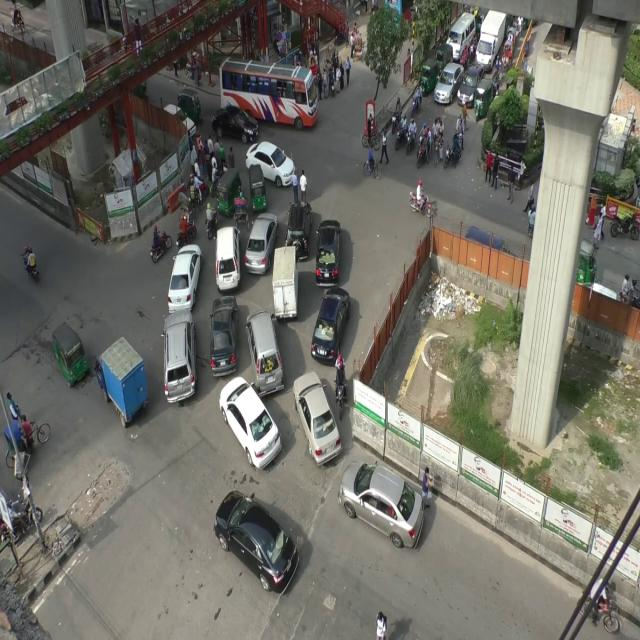cng: (49, 322, 89, 382), (215, 165, 238, 224), (247, 160, 270, 219), (472, 74, 497, 125), (179, 87, 204, 123), (421, 56, 438, 92), (435, 41, 453, 72)
rikshaw: (5, 414, 49, 469), (431, 115, 446, 168), (324, 43, 342, 70), (308, 54, 324, 82), (500, 43, 514, 72), (353, 30, 364, 61)
